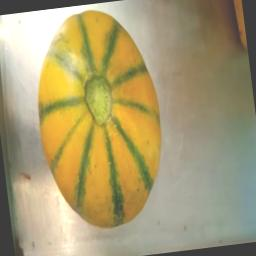Melon Ripe: (18, 2, 182, 238)
